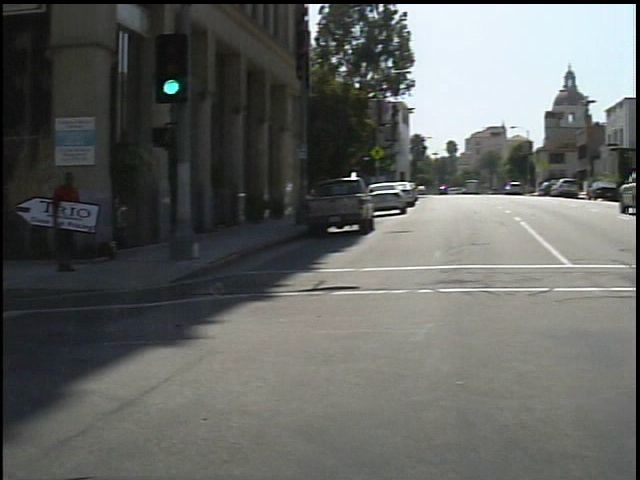person: (40, 160, 93, 281)
